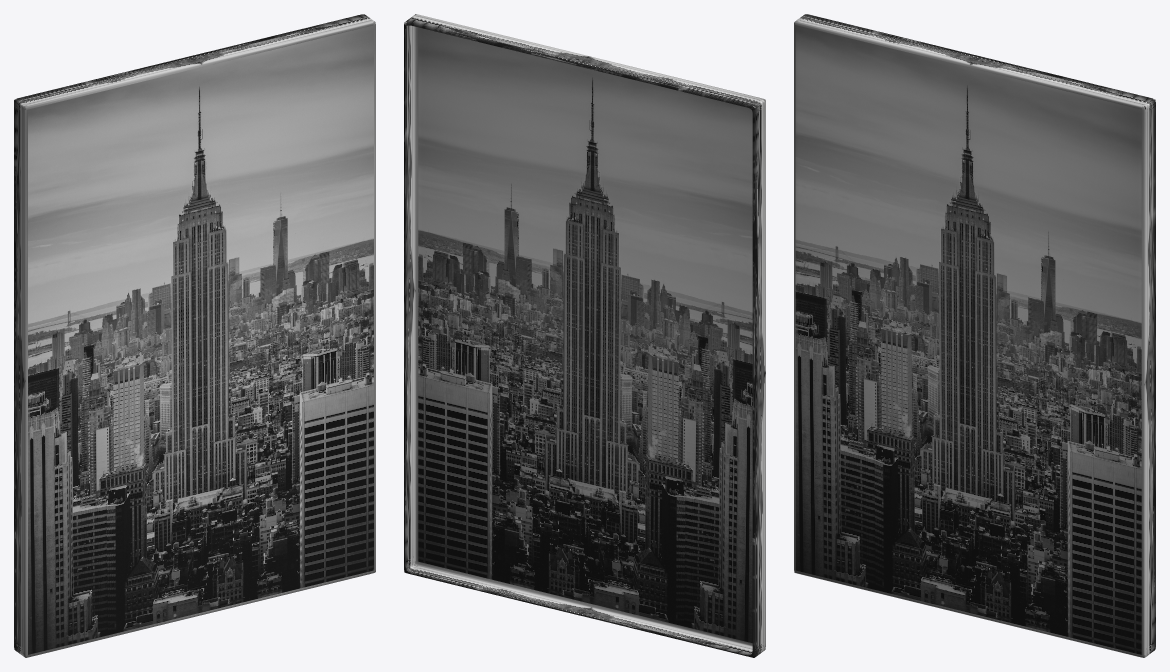
The model's file is Modern picture FBX.FBX.
3 renders of one model, left to right at view 1: azimuth 30°, elevation 25°; view 2: azimuth 150°, elevation 25°; view 3: azimuth 330°, elevation 25°, orthographic.
Parts seen in each view (by area): view 1: Box002; view 2: Box002; view 3: Box002.
Part boxes in pixels (<box>): Box002: <box>14,14,375,657</box>; Box002: <box>404,14,765,657</box>; Box002: <box>794,14,1155,657</box>.
Size of the model in its own units: 185 by 278 by 11.11.
Materials: 1 (1 with a texture image).
